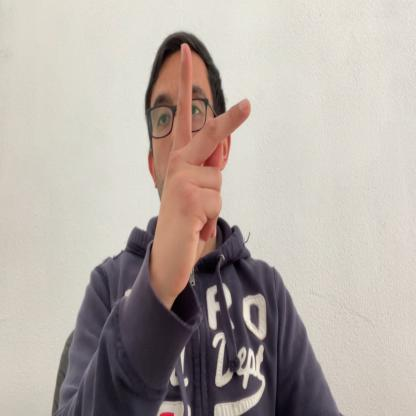P: (151, 42, 251, 292)
